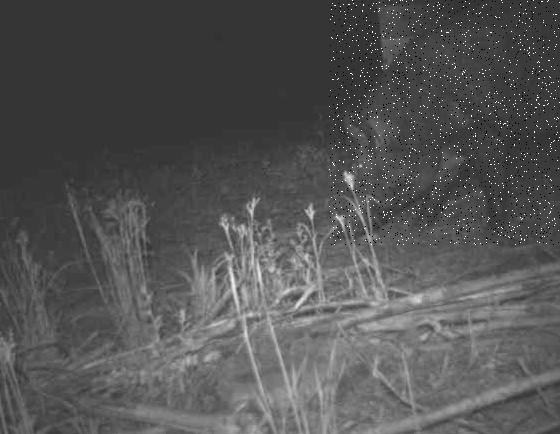Hog: (329, 0, 560, 245)
